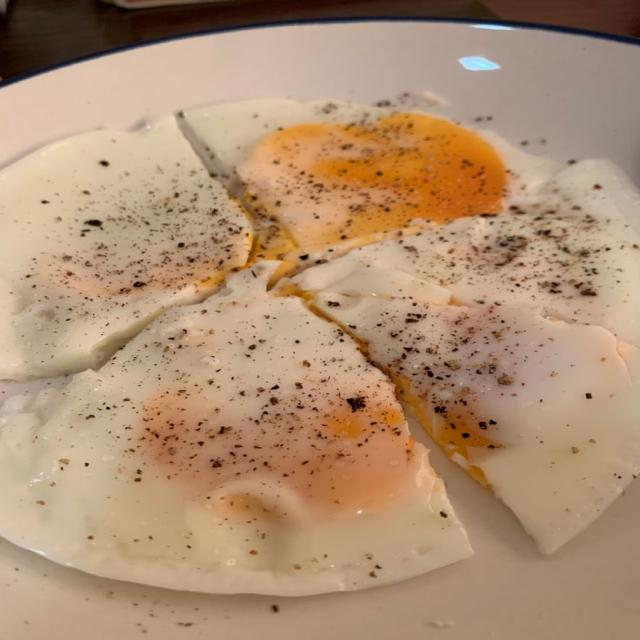fryed egg: (0, 264, 470, 594), (298, 260, 639, 552), (0, 119, 252, 379), (336, 161, 639, 345), (186, 100, 507, 256)
